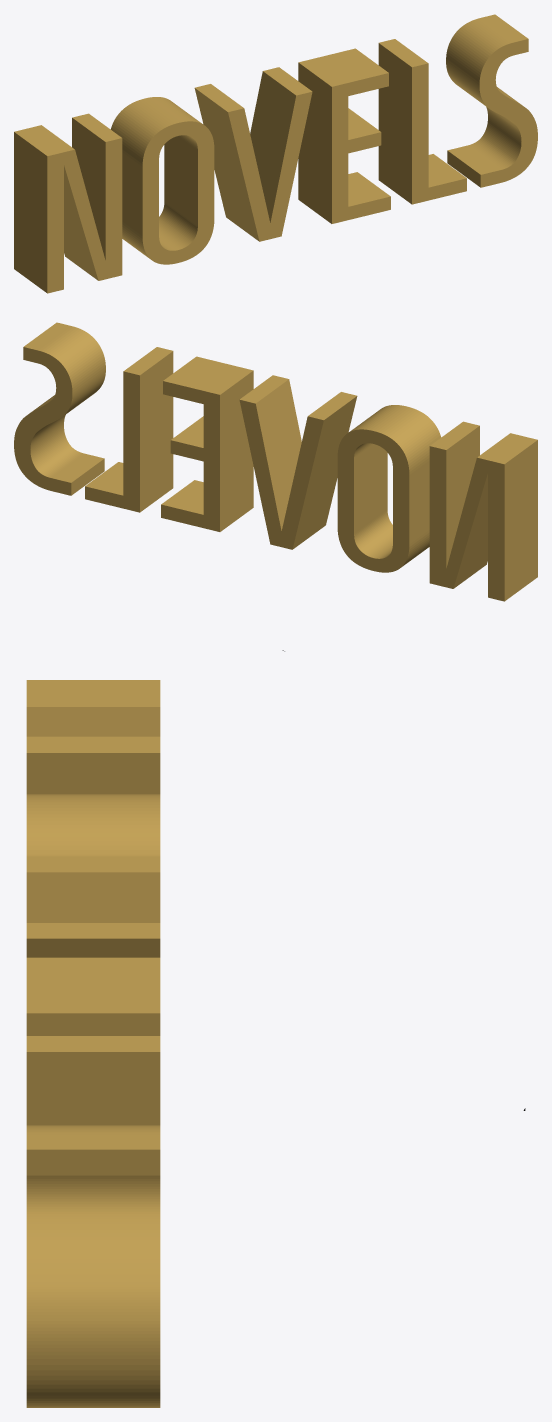
File: novels.glb
3 views of the same model, one above another, from view 1: azimuth 30°, elevation 25°; view 2: azimuth 150°, elevation 25°; view 3: azimuth 270°, elevation 25° (orthographic). The views are drawn at different scales.
Visible parts, largest first — view 1: Curve; view 2: Curve; view 3: Curve.
Part boxes in pixels (x1,y1,x2,y2): Curve: (14,14,537,293); Curve: (14,322,537,601); Curve: (26,680,160,1407).
Bounding box in the file's own units: 0.0812 × 0.0242 × 0.0358.
